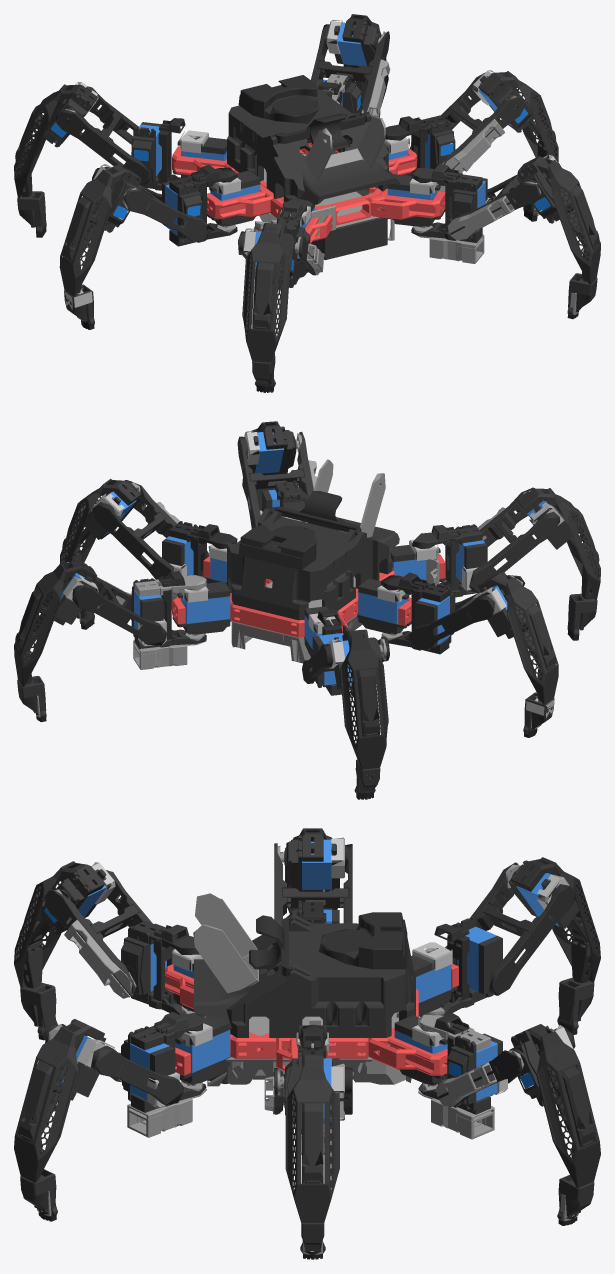
The picture shows the model from 3 angles, top to bottom: view 1: azimuth 30°, elevation 25°; view 2: azimuth 150°, elevation 25°; view 3: azimuth 270°, elevation 25°; orthographic projection. The views are drawn at different scales.
Visible parts, largest first — view 1: Body4, Body2:1, Body7, Body1, Body31, Body1:7; view 2: Body4, Body2:1, Body7, Body31, Body1:7, Body1; view 3: Body4, Body2:1, Body7, Body31, Body1, Body1:7.
Boxes of the visible parts, left/top/right/bottom form: Body4: left=16, top=21, right=600, bottom=387; Body2:1: left=14, top=14, right=486, bottom=246; Body7: left=58, top=20, right=577, bottom=314; Body1: left=172, top=142, right=445, bottom=243; Body31: left=52, top=22, right=550, bottom=278; Body1:7: left=64, top=21, right=557, bottom=320; Body4: left=16, top=421, right=600, bottom=795; Body2:1: left=14, top=491, right=494, bottom=769; Body7: left=36, top=431, right=564, bottom=717; Body31: left=61, top=432, right=547, bottom=688; Body1:7: left=63, top=432, right=563, bottom=728; Body1: left=172, top=553, right=445, bottom=637; Body4: left=14, top=828, right=595, bottom=1253; Body2:1: left=74, top=844, right=600, bottom=1187; Body7: left=37, top=837, right=578, bottom=1254; Body31: left=56, top=839, right=559, bottom=1123; Body1: left=165, top=964, right=458, bottom=1075; Body1:7: left=41, top=839, right=574, bottom=1251.
Bounding box in the file's own units: 49.59 × 17.75 × 43.1.
